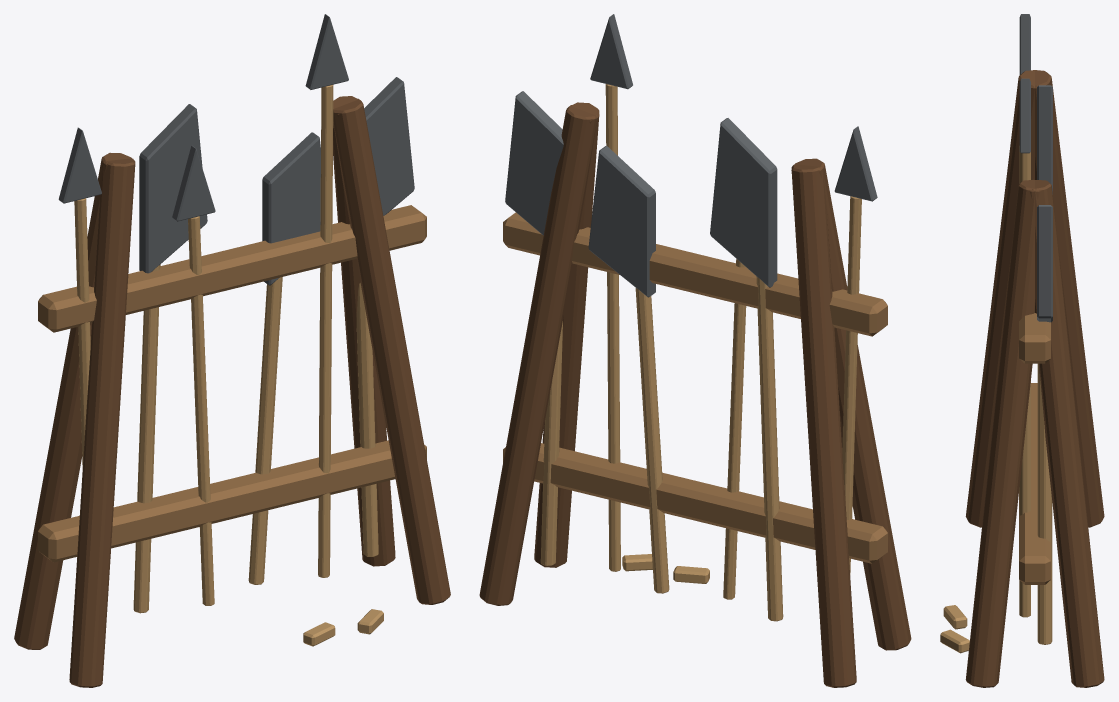
Rendered from runtime.glb.
3 views of the same model, side by side, from view 1: azimuth 30°, elevation 25°; view 2: azimuth 150°, elevation 25°; view 3: azimuth 270°, elevation 25° (orthographic). The views are drawn at different scales.
Visible parts, largest first — view 1: falkenwacht-weapon-rack-v05_nocol; view 2: falkenwacht-weapon-rack-v05_nocol; view 3: falkenwacht-weapon-rack-v05_nocol.
Part boxes in pixels (x1=…): falkenwacht-weapon-rack-v05_nocol: x1=14, y1=14, x2=450, y2=687; falkenwacht-weapon-rack-v05_nocol: x1=479, y1=14, x2=911, y2=687; falkenwacht-weapon-rack-v05_nocol: x1=940, y1=14, x2=1104, y2=687.
Size of the model in its own units: 1.71 by 2.54 by 0.6669.
